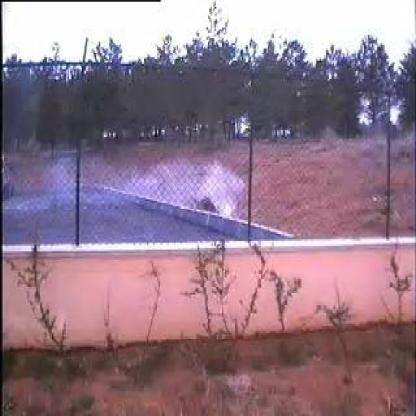-: (36, 146, 253, 238)
